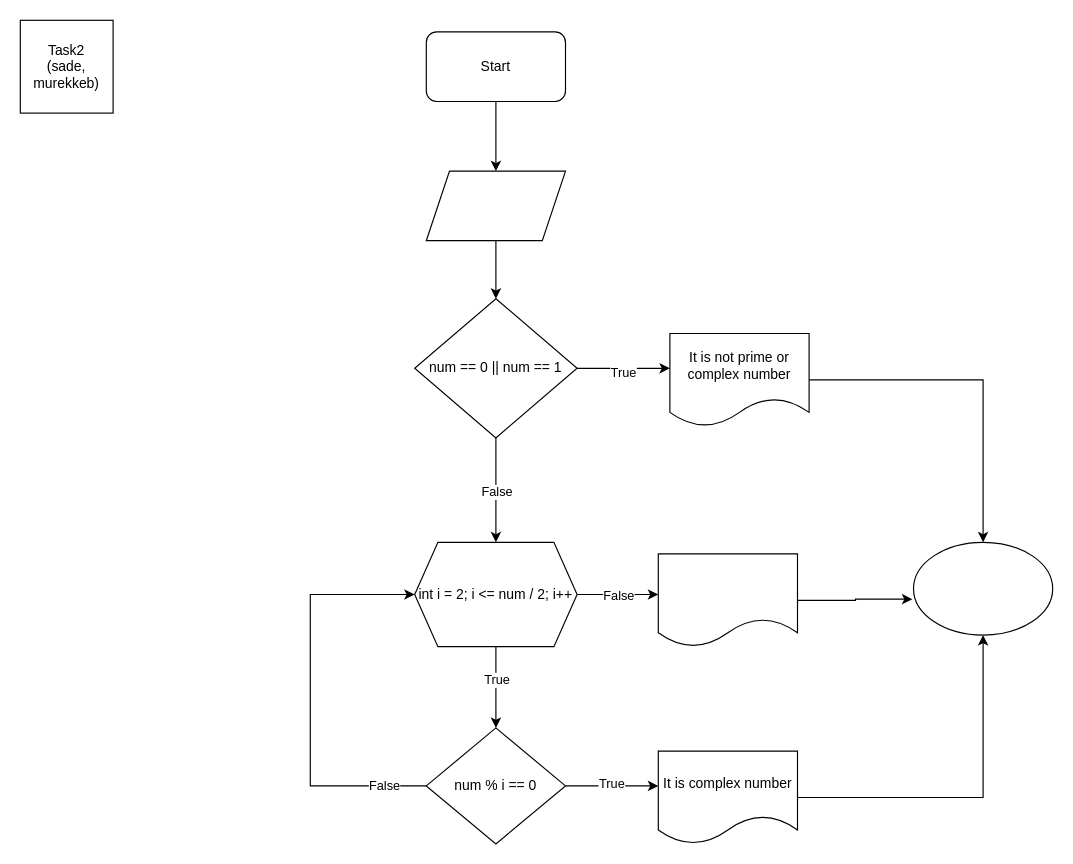
Image size: 1073x864. Some labels were removed from this diagram. Here are the shapes that lost their labels. From the top down, the centre of each, then its label:
the point at 495,205: int n
the point at 727,600: It is a prime number
the point at 982,588: end
